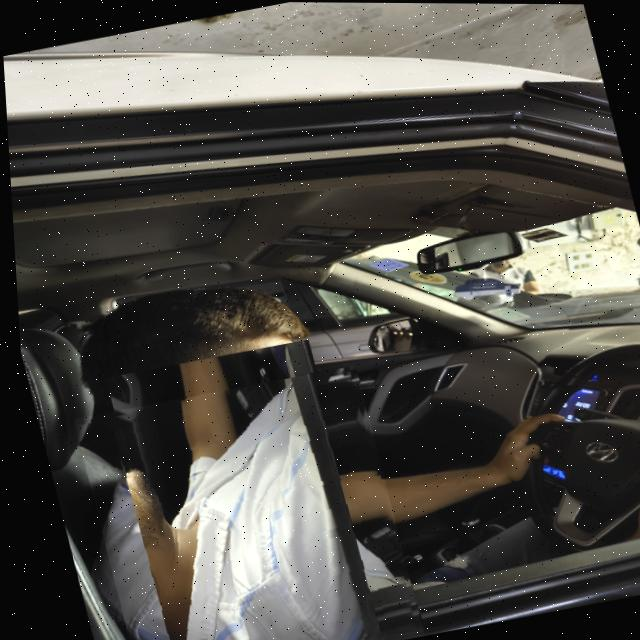no-seatbelt: (66, 363, 417, 640)
